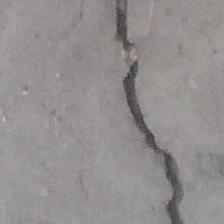Crack: (68, 0, 194, 224)
